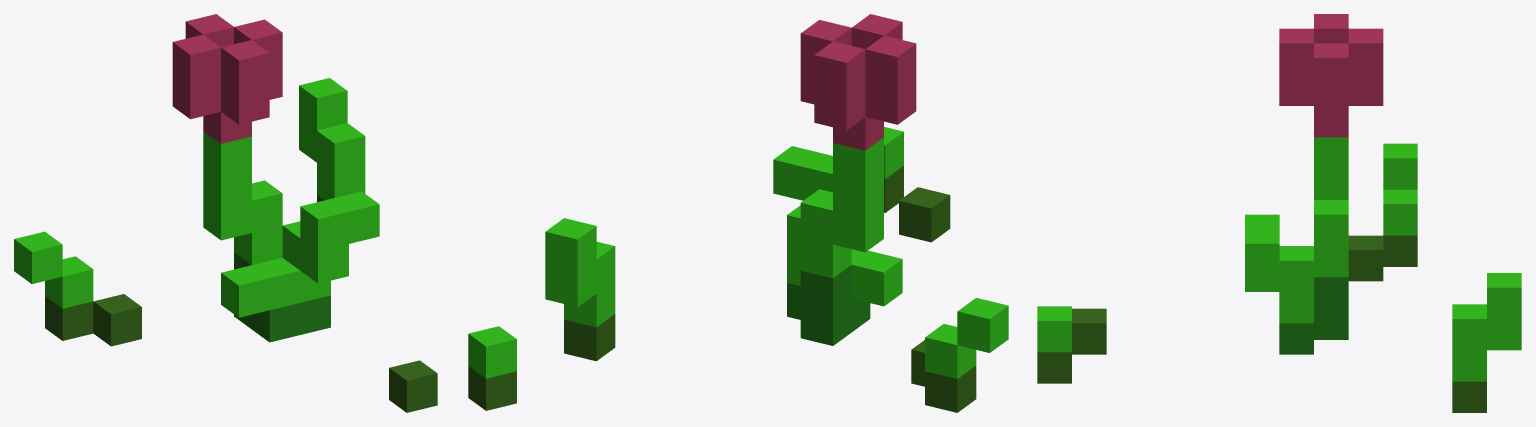
File: Bloem1.fbx
3 renders of one model, left to right at view 1: azimuth 30°, elevation 25°; view 2: azimuth 150°, elevation 25°; view 3: azimuth 270°, elevation 25°, orthographic. The views are drawn at different scales.
Parts seen in each view (by area): view 1: Bloem1:Bloem1; view 2: Bloem1:Bloem1; view 3: Bloem1:Bloem1.
Part boxes in pixels (<box>): Bloem1:Bloem1: <box>14,14,516,412</box>; Bloem1:Bloem1: <box>545,14,1008,412</box>; Bloem1:Bloem1: <box>1037,14,1521,412</box>.
Size of the model in its own units: 12 by 9 by 14.
Materials: 1 (1 with a texture image).
